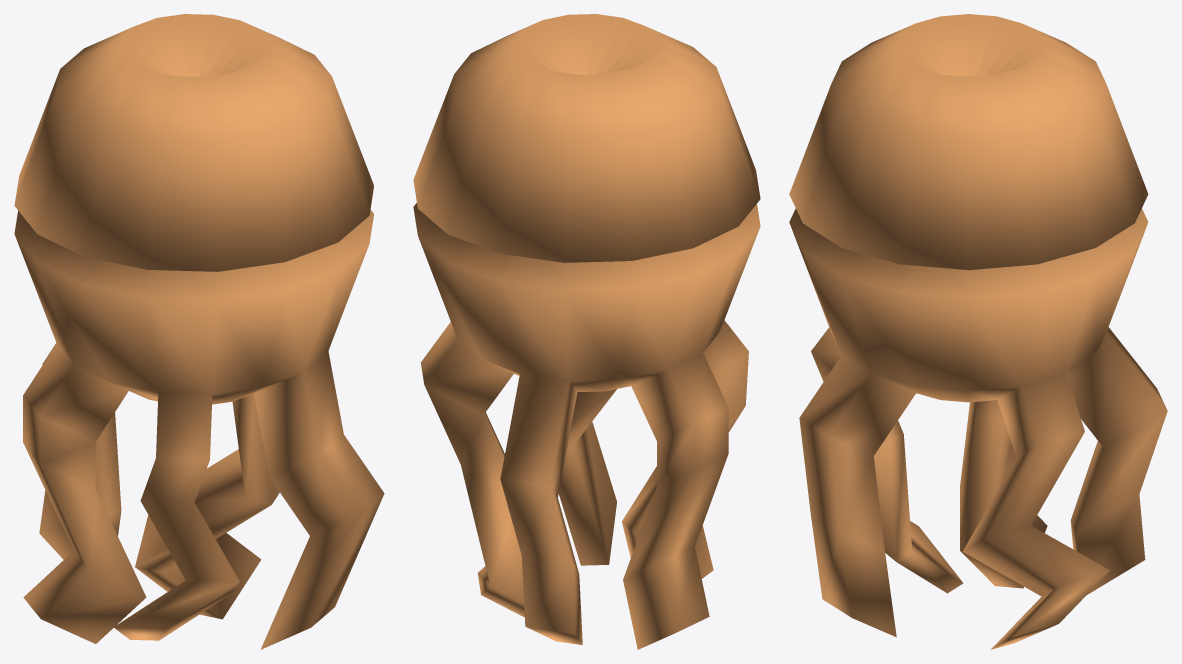
File: Uumar.fbx
3 renders of one model, left to right at view 1: azimuth 30°, elevation 25°; view 2: azimuth 150°, elevation 25°; view 3: azimuth 270°, elevation 25°, orthographic. The views are drawn at different scales.
Visible parts, largest first — view 1: Uumar; view 2: Uumar; view 3: Uumar.
Part boxes in pixels (x1,y1,x2,y2): Uumar: (14,14,384,649); Uumar: (413,14,760,649); Uumar: (789,14,1167,649).
Bounding box in the file's own units: 19.47 × 33.24 × 18.48.
